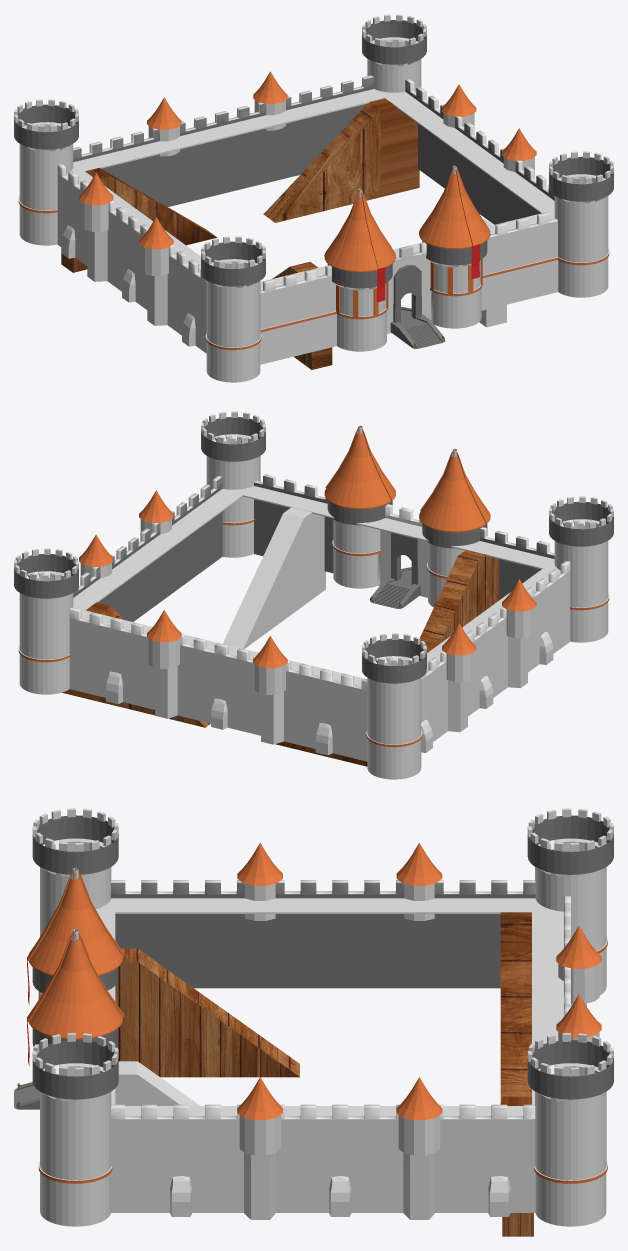
The model's file is castel3.fbx.
The picture shows the model from 3 angles, top to bottom: view 1: azimuth 30°, elevation 25°; view 2: azimuth 150°, elevation 25°; view 3: azimuth 270°, elevation 25°; orthographic projection. The views are drawn at different scales.
Visible parts, largest first — view 1: Castle, Cube.003, Cube.004, Cube.002, Castle.003, Cube, Cube.001; view 2: Castle, Cube.004, Cube.001, Cube, Castle.003, Cube.003; view 3: Castle, Cube, Cube.004, Cube.002, Cube.001, Cube.003, Castle.003.
Part boxes in pixels (bbox=[...]): Castle: bbox=[14, 14, 613, 382]; Cube.003: bbox=[263, 98, 419, 222]; Cube.004: bbox=[66, 89, 554, 290]; Cube.002: bbox=[61, 168, 216, 272]; Castle.003: bbox=[390, 265, 445, 348]; Cube: bbox=[272, 261, 332, 369]; Cube.001: bbox=[479, 219, 506, 327]; Castle: bbox=[14, 411, 613, 779]; Cube.004: bbox=[73, 486, 560, 686]; Cube.001: bbox=[222, 507, 325, 648]; Cube: bbox=[420, 550, 499, 652]; Castle.003: bbox=[370, 533, 420, 608]; Cube.003: bbox=[62, 602, 210, 727]; Castle: bbox=[27, 808, 613, 1226]; Cube: bbox=[115, 948, 299, 1077]; Cube.004: bbox=[96, 898, 563, 1116]; Cube.002: bbox=[500, 912, 531, 1104]; Cube.001: bbox=[115, 1061, 199, 1105]; Cube.003: bbox=[502, 1096, 533, 1236]; Castle.003: bbox=[14, 1082, 39, 1109].
Bounding box in the file's own units: 23437 × 9417 × 22760.
5 materials, 1 textured.
